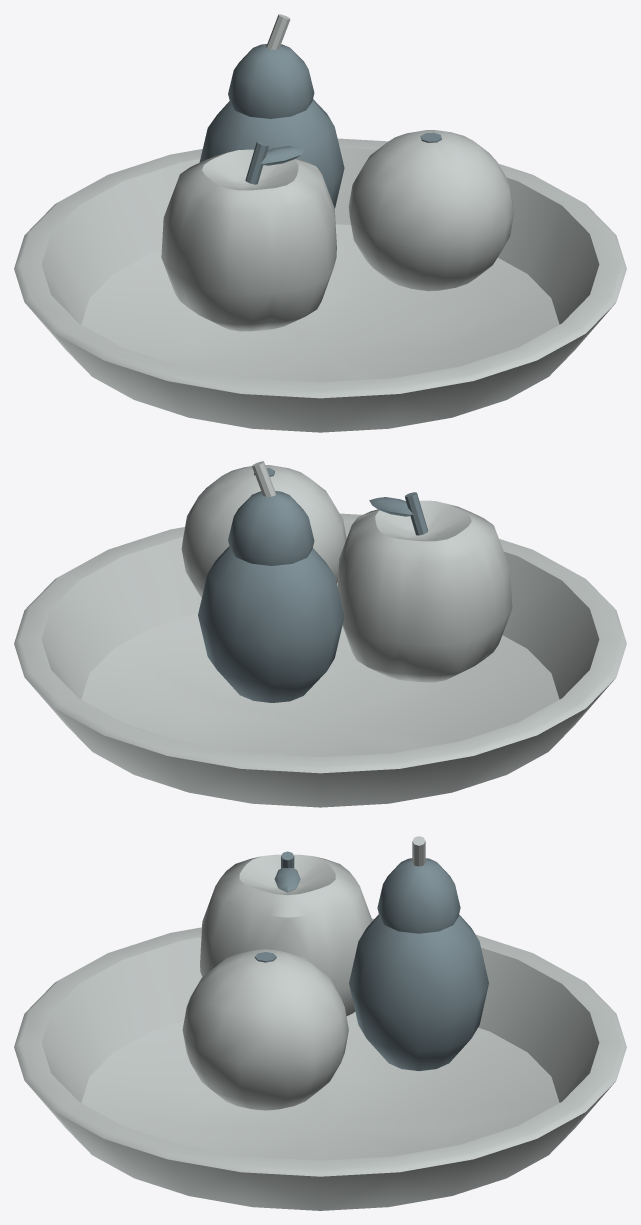
Rendered from fruit-bowl.glb.
3 renders of one model, top to bottom at view 1: azimuth 30°, elevation 25°; view 2: azimuth 150°, elevation 25°; view 3: azimuth 270°, elevation 25°, orthographic.
Visible parts, largest first — view 1: bowl, apple_lobed_flesh, orange, pear_body, pear_neck, apple_leaf, apple_stem; view 2: bowl, apple_lobed_flesh, pear_body, orange, pear_neck, apple_leaf, apple_stem, pear_stem; view 3: bowl, orange, pear_body, apple_lobed_flesh, pear_neck.
Part boxes in pixels (box(x1,y1,x2,y2)): bowl: box(14, 138, 626, 432); apple_lobed_flesh: box(161, 149, 336, 331); orange: box(348, 130, 513, 291); pear_body: box(199, 99, 344, 208); pear_neck: box(228, 44, 314, 118); apple_leaf: box(260, 146, 304, 165); apple_stem: box(245, 141, 268, 184); bowl: box(14, 513, 626, 807); apple_lobed_flesh: box(337, 500, 512, 682); pear_body: box(198, 546, 344, 702); orange: box(181, 465, 346, 597); pear_neck: box(228, 491, 314, 565); apple_leaf: box(369, 497, 413, 516); apple_stem: box(405, 492, 428, 535); pear_stem: box(252, 461, 275, 496); bowl: box(14, 918, 626, 1210); orange: box(182, 949, 348, 1110); pear_body: box(349, 914, 488, 1070); apple_lobed_flesh: box(200, 854, 372, 1016); pear_neck: box(377, 858, 460, 933).
Bounding box in the file's own units: 0.28 × 0.1612 × 0.28.
